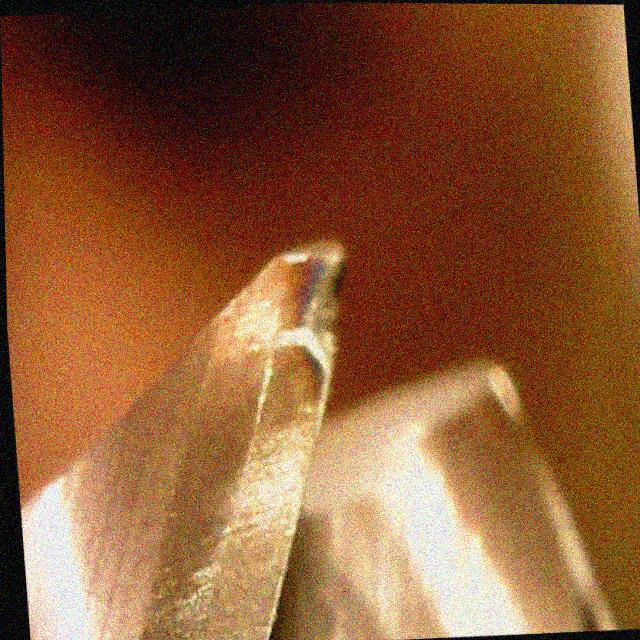Tool-wear-class-1: (164, 232, 398, 566)
